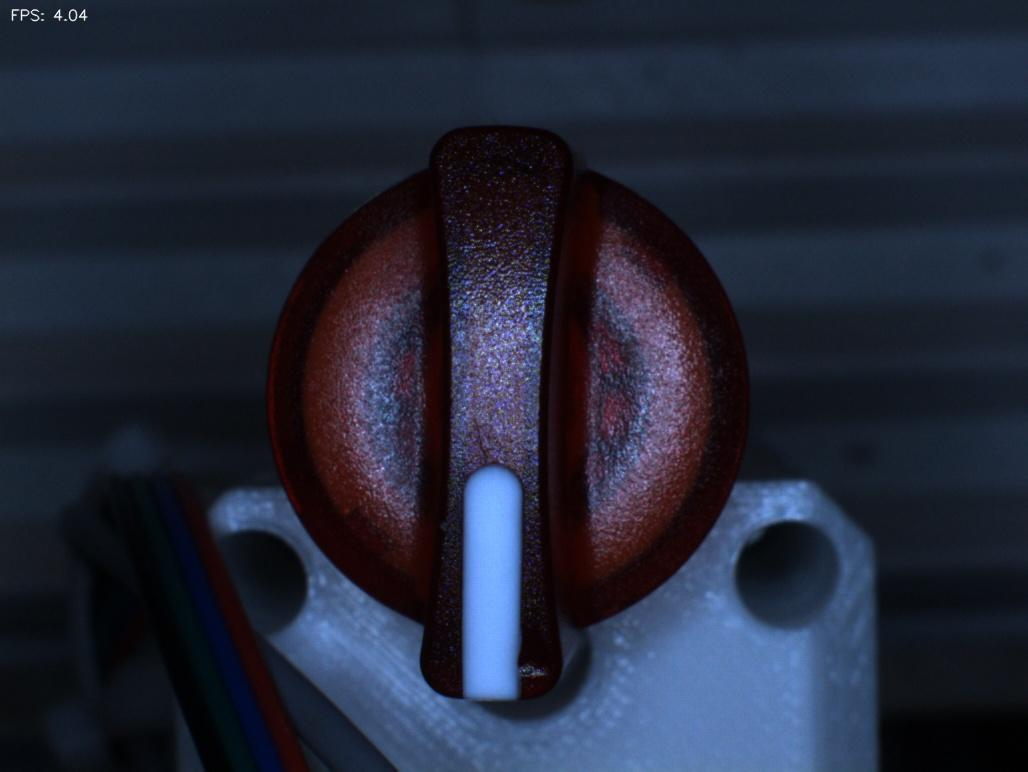Choc: (494, 602, 572, 703)
